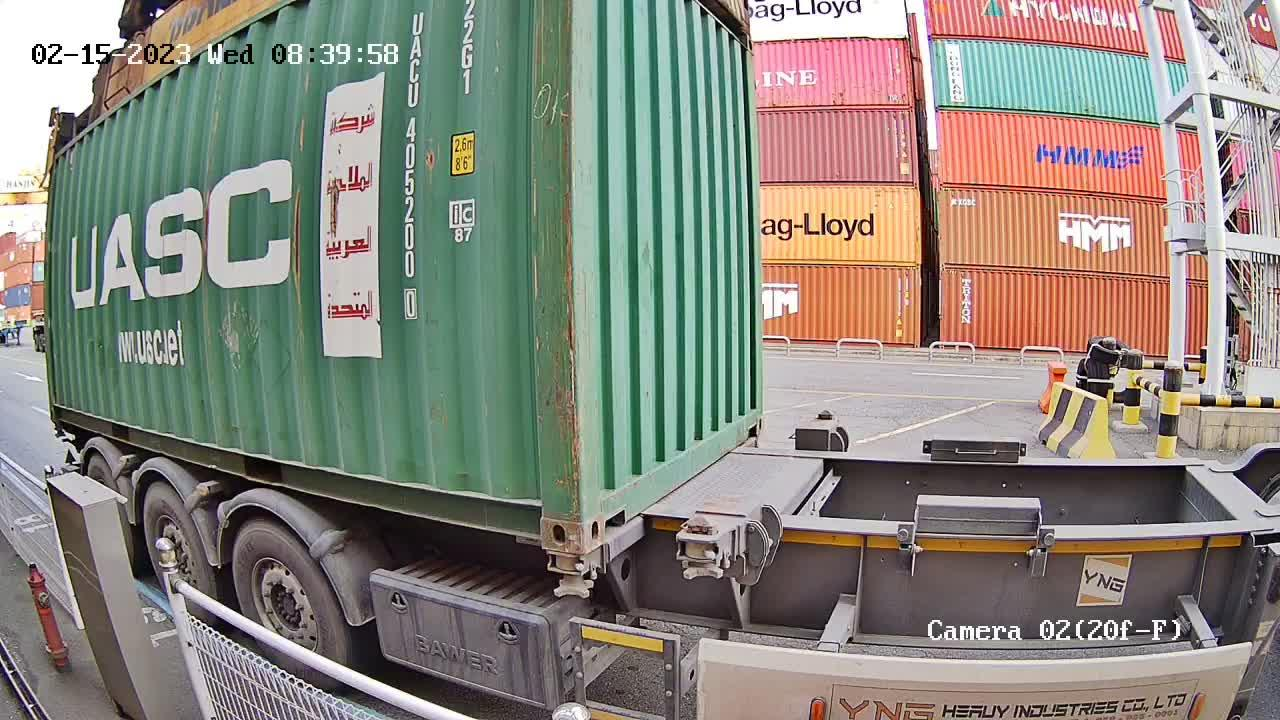Chassis: (597, 436, 759, 567)
Cone: (546, 549, 599, 599)
Hole_L: (581, 449, 637, 548)
Hole_R: (499, 460, 581, 554), (731, 382, 766, 444)
Tire: (233, 525, 344, 660), (143, 488, 212, 602), (87, 458, 118, 485)
